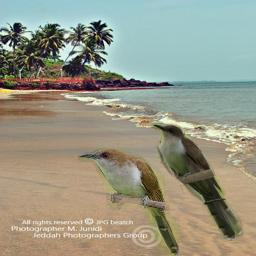Cuckoo: (151, 121, 243, 241), (78, 148, 179, 256)
